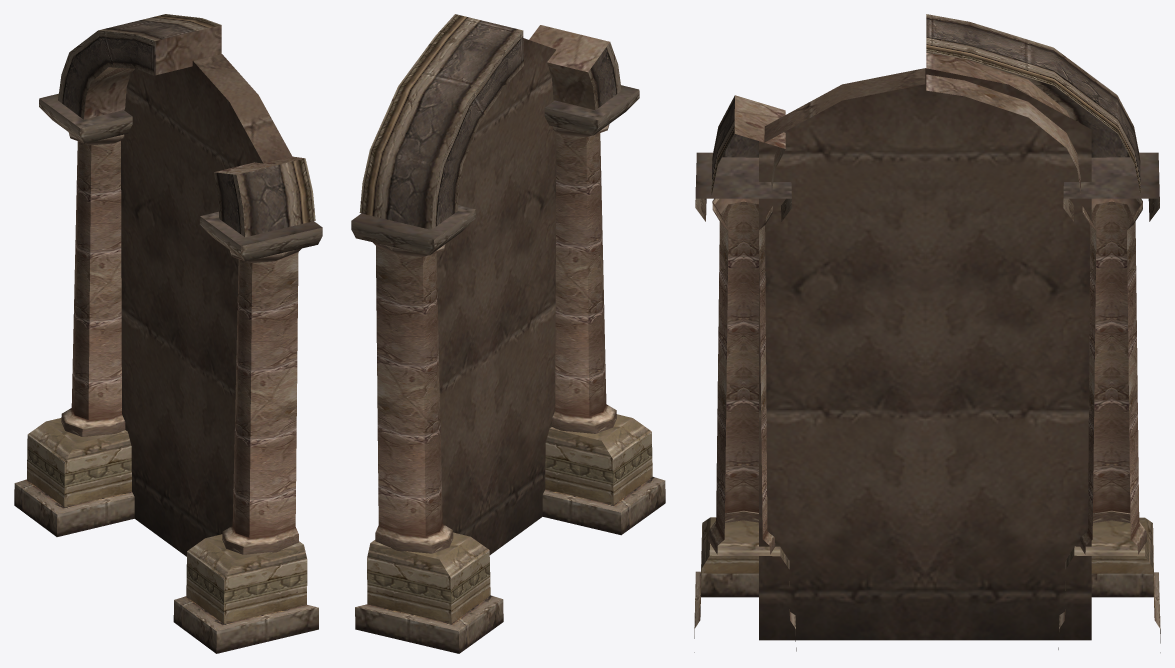
The model's file is blsd_4qiang_02.FBX.
3 views of the same model, side by side, from view 1: azimuth 30°, elevation 25°; view 2: azimuth 150°, elevation 25°; view 3: azimuth 270°, elevation 25° (orthographic). The views are drawn at different scales.
Visible parts, largest first — view 1: blsd_4qiang_02; view 2: blsd_4qiang_02; view 3: blsd_4qiang_02.
Part boxes in pixels (bbox=[...]): blsd_4qiang_02: bbox=[14, 14, 322, 653]; blsd_4qiang_02: bbox=[351, 14, 665, 653]; blsd_4qiang_02: bbox=[694, 14, 1160, 652].
Bounding box in the file's own units: 111 × 528 × 369.
